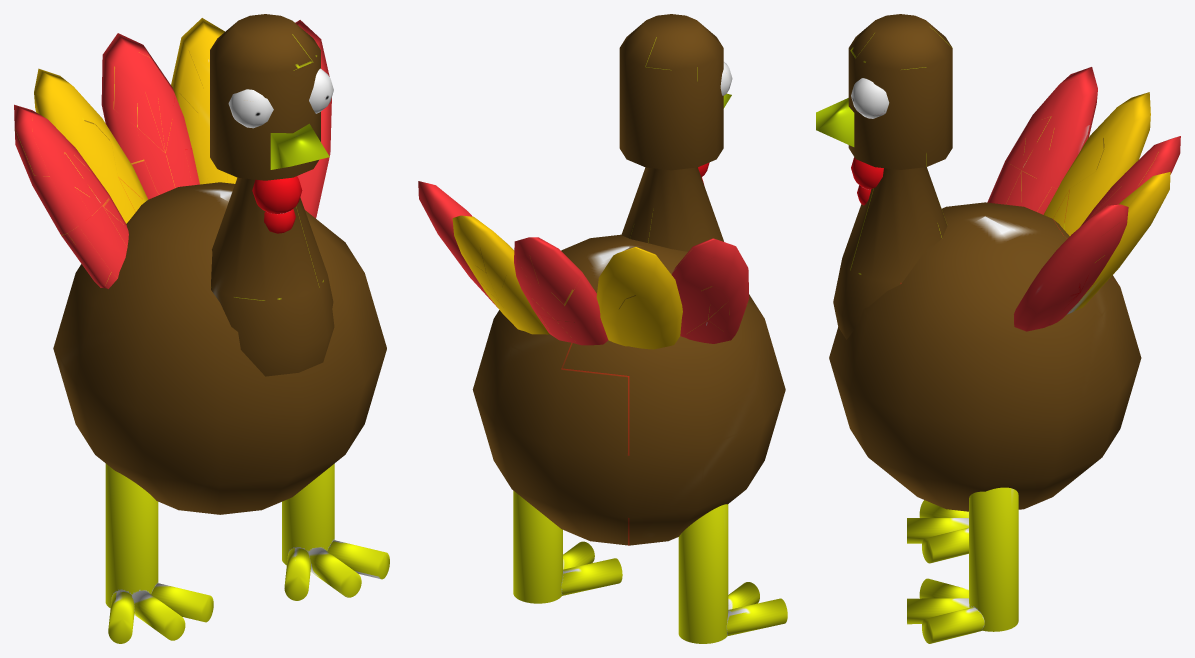
Rendered from Turkey.fbx.
3 views of the same model, side by side, from view 1: azimuth 30°, elevation 25°; view 2: azimuth 150°, elevation 25°; view 3: azimuth 270°, elevation 25° (orthographic). The views are drawn at different scales.
Visible parts, largest first — view 1: LEg.001; view 2: LEg.001; view 3: LEg.001.
Boxes of the visible parts, x1=… form: LEg.001: x1=14, y1=14, x2=389, y2=643; LEg.001: x1=418, y1=14, x2=787, y2=643; LEg.001: x1=816, y1=14, x2=1180, y2=643.
Bounding box in the file's own units: 193 × 341 × 203.
